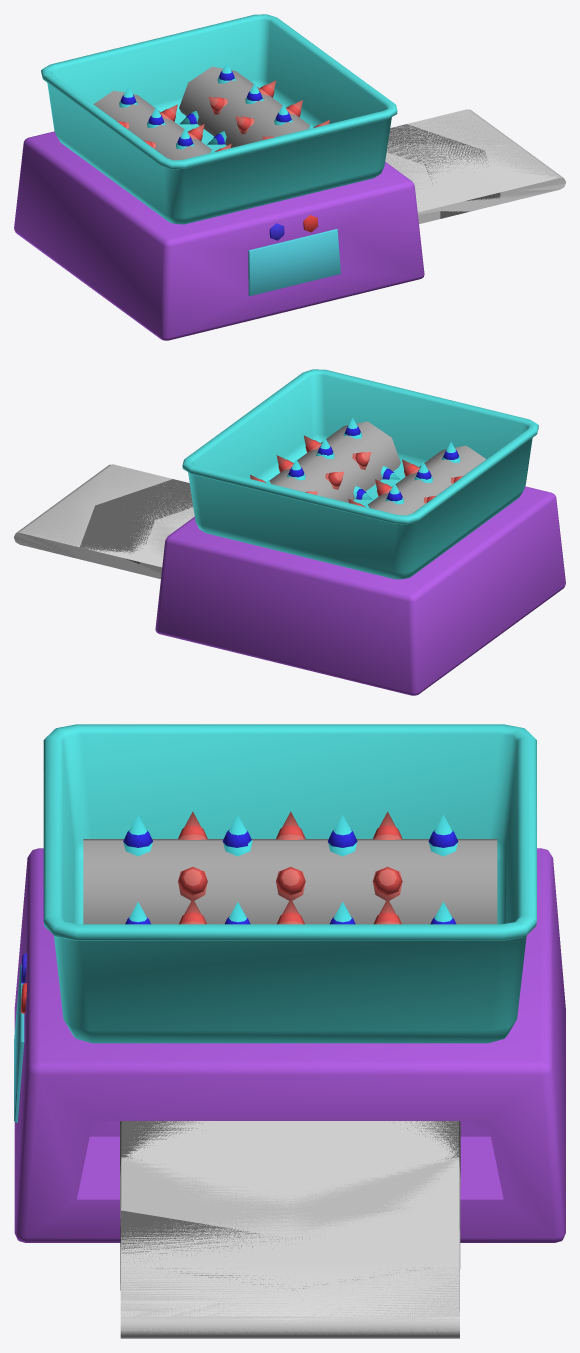
File: gemgrinder.fbx
3 views of the same model, one above another, from view 1: azimuth 30°, elevation 25°; view 2: azimuth 150°, elevation 25°; view 3: azimuth 270°, elevation 25° (orthographic). The views are drawn at different scales.
Visible parts, largest first — view 1: Cube.001, Cube, Cube.003, Cube.002, CylinderRight, CylinderLeft, Cone.001, Cylinder.003, Cone, Cylinder.002; view 2: Cube.001, Cube, Cube.002, CylinderRight, Cube.003, CylinderLeft, Cone.001, Cylinder.003, Cone, Cylinder.002; view 3: Cube, Cube.001, Cube.003, Cube.002, CylinderLeft, Cone, Cylinder.002, Cone.001, Cylinder.003.
Boxes of the visible parts, x1,y1,x2,y2 form: Cube.001: [14, 131, 424, 340]; Cube: [41, 14, 397, 224]; Cube.003: [385, 109, 565, 214]; Cube.002: [385, 109, 565, 223]; CylinderRight: [179, 66, 310, 147]; CylinderLeft: [93, 90, 211, 160]; Cone.001: [179, 63, 329, 144]; Cylinder.003: [185, 70, 321, 144]; Cone: [117, 87, 231, 152]; Cylinder.002: [117, 94, 222, 151]; Cube.001: [155, 486, 565, 695]; Cube: [182, 369, 538, 579]; Cube.002: [14, 464, 194, 573]; CylinderRight: [269, 421, 400, 502]; Cube.003: [14, 464, 194, 578]; CylinderLeft: [368, 445, 486, 515]; Cone.001: [250, 418, 400, 499]; Cylinder.003: [258, 426, 393, 499]; Cone: [348, 442, 462, 507]; Cylinder.002: [357, 450, 462, 506]; Cube: [43, 724, 536, 1043]; Cube.001: [14, 848, 565, 1242]; Cube.003: [120, 1121, 460, 1335]; Cube.002: [120, 1121, 460, 1338]; CylinderLeft: [83, 839, 497, 924]; Cone: [123, 811, 457, 922]; Cylinder.002: [123, 825, 458, 895]; Cone.001: [129, 898, 452, 924]; Cylinder.003: [125, 912, 456, 924].
Size of the model in its own units: 4.03 by 1.5 by 2.46.
